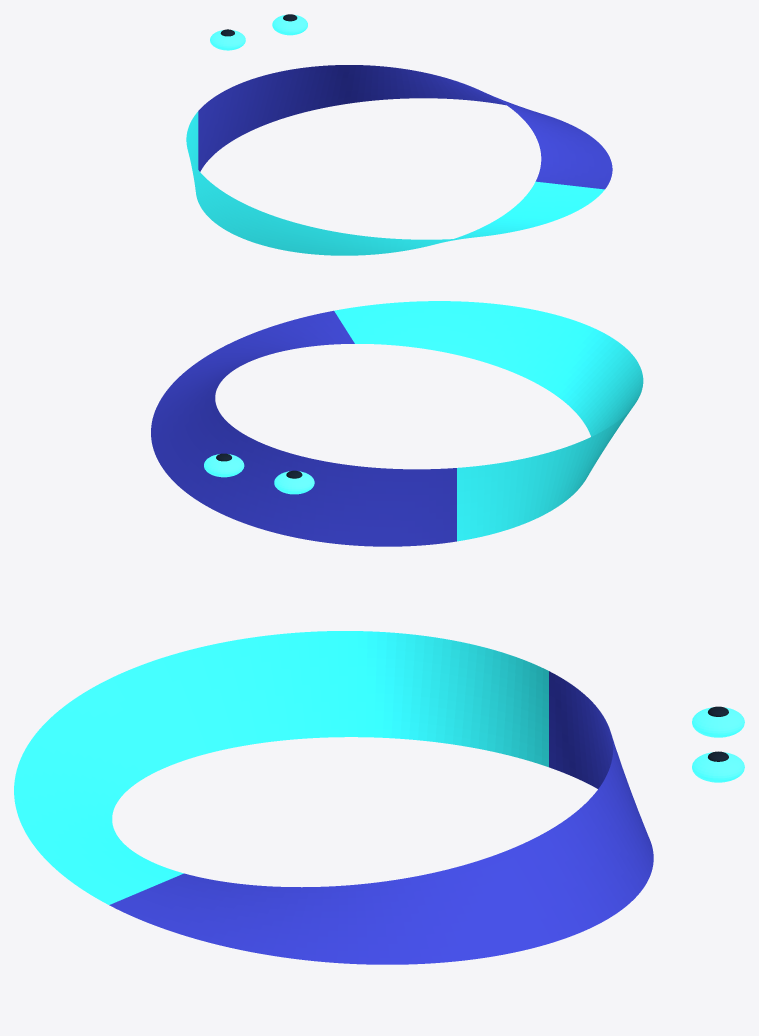
File: mobius-identity-master.glb
3 renders of one model, top to bottom at view 1: azimuth 30°, elevation 25°; view 2: azimuth 150°, elevation 25°; view 3: azimuth 270°, elevation 25°, orthographic. The views are drawn at different scales.
Parts seen in each view (by area): view 1: MobiusBody, Eye_Left, Eye_Right; view 2: MobiusBody, Eye_Left, Eye_Right; view 3: MobiusBody, Eye_Right, Eye_Left.
Boxes of the visible parts, <box> form: MobiusBody: <box>186,65,612,255</box>; Eye_Left: <box>210,30,245,50</box>; Eye_Right: <box>272,14,307,35</box>; MobiusBody: <box>151,301,643,546</box>; Eye_Left: <box>274,471,314,494</box>; Eye_Right: <box>204,454,244,477</box>; MobiusBody: <box>14,631,653,964</box>; Eye_Right: <box>692,752,744,782</box>; Eye_Left: <box>692,707,744,737</box>.
Size of the model in its own units: 6.6 by 0.856 by 4.68.
